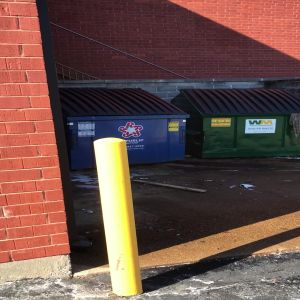Dumpster: (60, 83, 187, 166), (177, 88, 300, 155)
